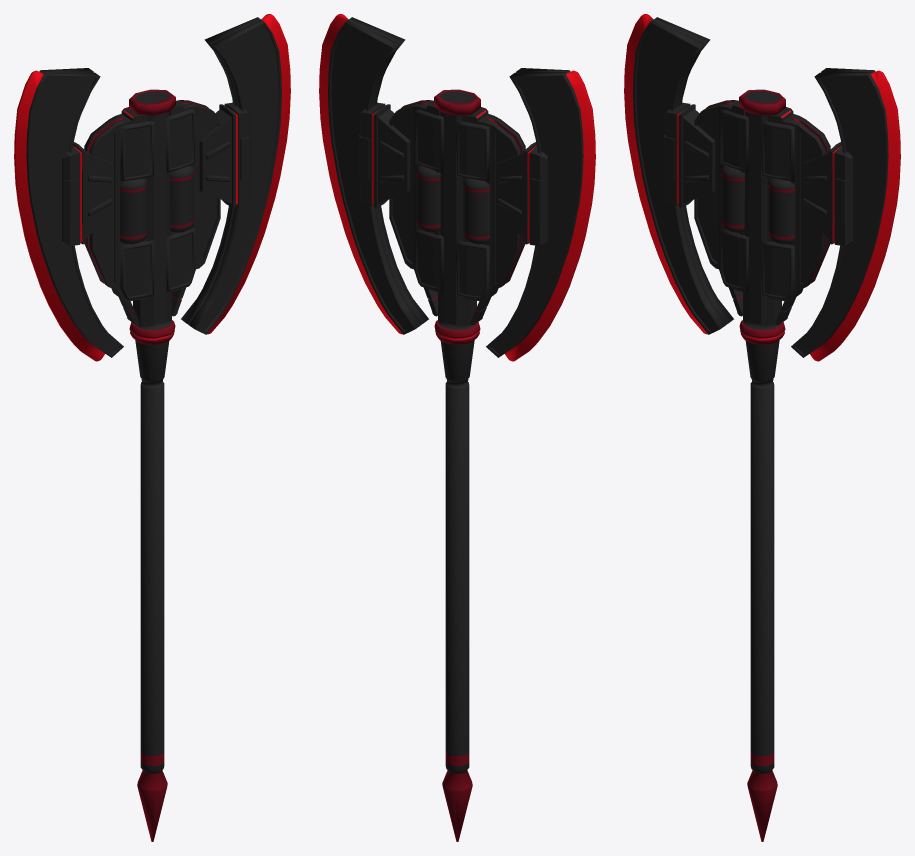
The model's file is HeatAxe.fbx.
3 views of the same model, side by side, from view 1: azimuth 30°, elevation 25°; view 2: azimuth 150°, elevation 25°; view 3: azimuth 330°, elevation 25° (orthographic).
Parts seen in each view (by area): view 1: HeatAxe; view 2: HeatAxe; view 3: HeatAxe.
Part boxes in pixels (<box>): HeatAxe: <box>14,14,290,841</box>; HeatAxe: <box>319,14,595,841</box>; HeatAxe: <box>624,14,900,841</box>.
Size of the model in its own units: 58.71 by 163 by 8.09.
